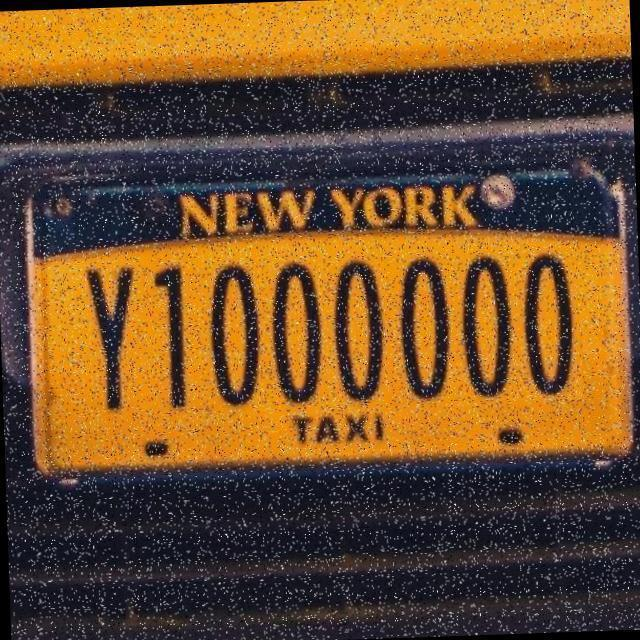license_plate: (16, 143, 640, 512)
